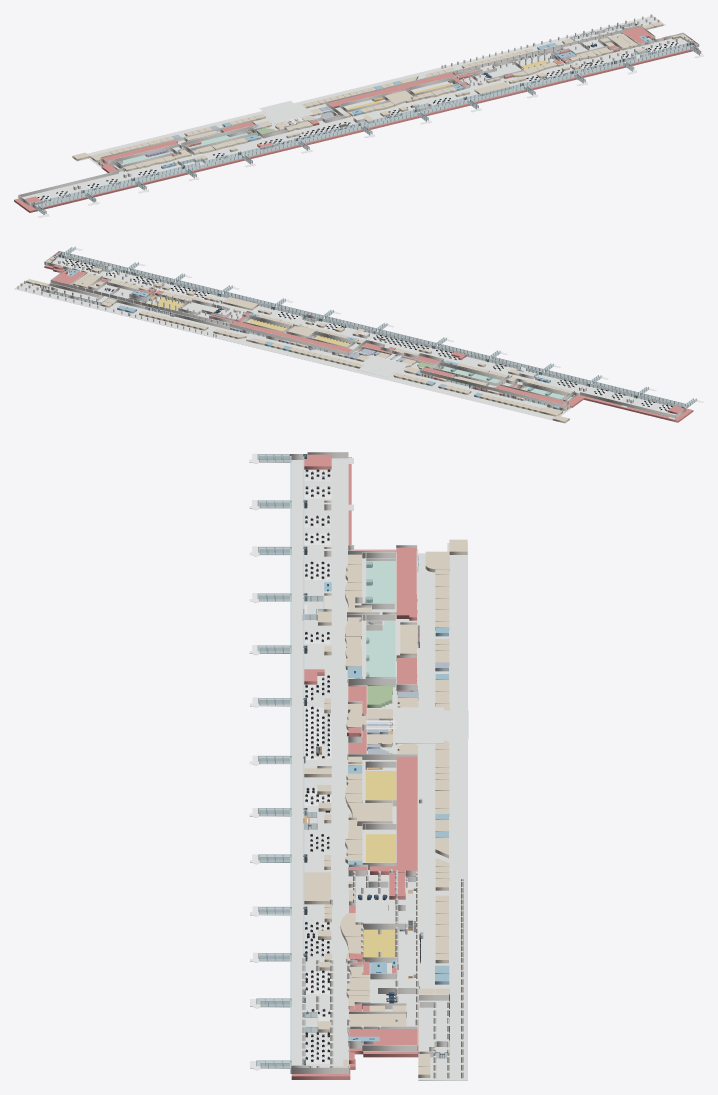
File: t1-gabungan.glb
3 renders of one model, top to bottom at view 1: azimuth 30°, elevation 25°; view 2: azimuth 150°, elevation 25°; view 3: azimuth 270°, elevation 25°, orthographic. The views are drawn at different scales.
Parts seen in each view (by area): view 1: FLOOR_JUANDA_FF8, XRAY, area_visitor, area_merah, tembok_pillar_3, area_merah_15, tembok_pillar_7, area_merah_2__L2; view 2: area_visitor, FLOOR_JUANDA_FF8, XRAY, area_merah, tembok_pillar_3, area_merah_15, tembok_pillar_2, pavlon, tembok_pillar, tembok_pillar_7, area_merah_2__L2; view 3: FLOOR_JUANDA_FF8, area_visitor, XRAY, area_merah_15, area_merah, area_merah_2__L2, ZONE_KEDATANGAN_1B_PART_02, pavlon, ZONE_KEDATANGAN_1B_PART_01.
Part boxes in pixels (x1=…): FLOOR_JUANDA_FF8: x1=17, y1=33, x2=703, y2=217; XRAY: x1=17, y1=34, x2=692, y2=204; area_visitor: x1=73, y1=15, x2=665, y2=168; area_merah: x1=14, y1=47, x2=698, y2=212; tembok_pillar_3: x1=327, y1=25, x2=640, y2=102; area_merah_15: x1=328, y1=72, x2=455, y2=108; tembok_pillar_7: x1=19, y1=170, x2=118, y2=196; area_merah_2__L2: x1=102, y1=140, x2=177, y2=161; area_visitor: x1=14, y1=280, x2=571, y2=423; FLOOR_JUANDA_FF8: x1=51, y1=249, x2=683, y2=418; XRAY: x1=59, y1=259, x2=698, y2=418; area_merah: x1=44, y1=265, x2=693, y2=422; tembok_pillar_3: x1=50, y1=280, x2=348, y2=355; area_merah_15: x1=232, y1=321, x2=352, y2=352; tembok_pillar_2: x1=420, y1=370, x2=563, y2=407; pavlon: x1=358, y1=356, x2=407, y2=373; tembok_pillar: x1=117, y1=296, x2=229, y2=326; tembok_pillar_7: x1=580, y1=392, x2=675, y2=417; area_merah_2__L2: x1=493, y1=385, x2=566, y2=404; FLOOR_JUANDA_FF8: x1=249, y1=454, x2=468, y2=1069; area_visitor: x1=364, y1=543, x2=467, y2=1080; XRAY: x1=249, y1=459, x2=417, y2=1070; area_merah_15: x1=396, y1=756, x2=417, y2=875; area_merah: x1=291, y1=457, x2=418, y2=1079; area_merah_2__L2: x1=396, y1=547, x2=416, y2=620; ZONE_KEDATANGAN_1B_PART_02: x1=367, y1=621, x2=394, y2=676; pavlon: x1=395, y1=707, x2=468, y2=743; ZONE_KEDATANGAN_1B_PART_01: x1=367, y1=561, x2=395, y2=608.
Bounding box in the file's own units: 651 × 5.89 × 97.18.
